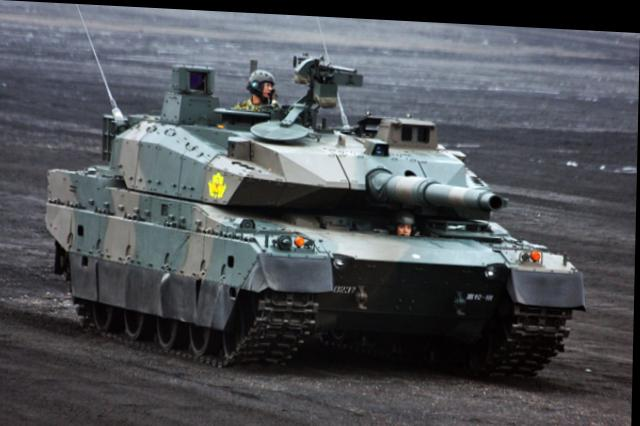other: (234, 55, 277, 107), (393, 208, 416, 232)
tank: (43, 98, 587, 376)
